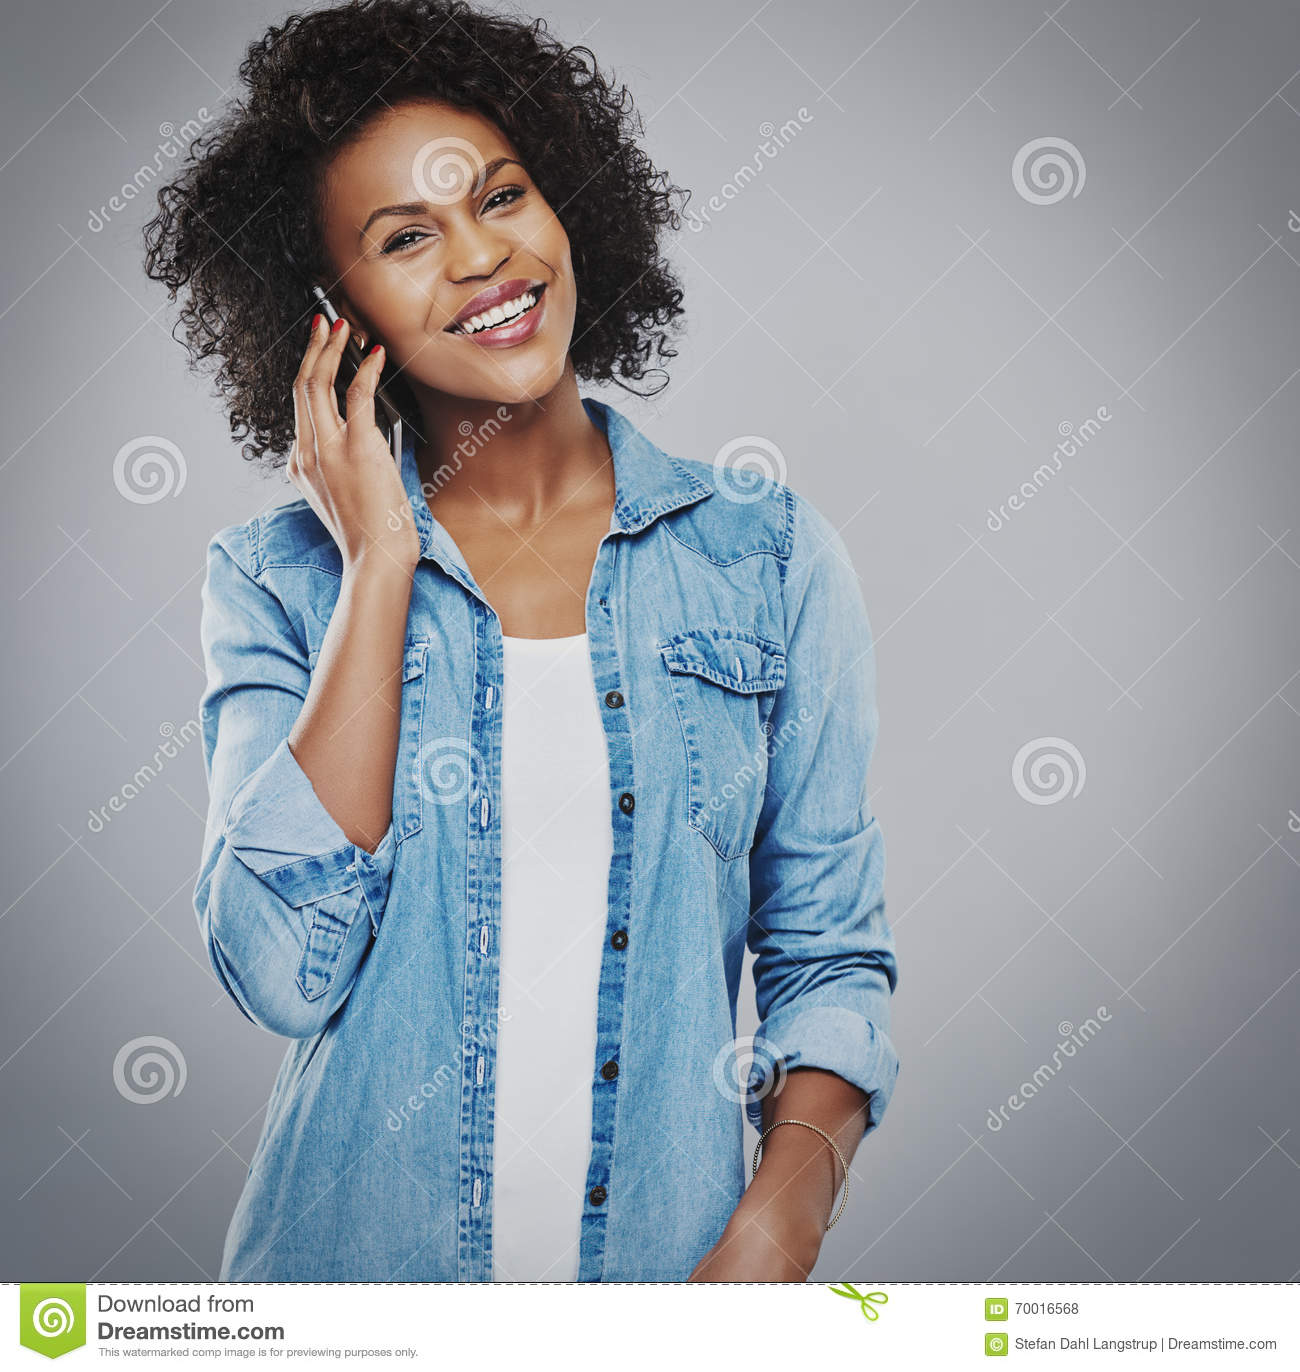phone: (309, 279, 412, 469)
talk: (293, 149, 578, 610)
